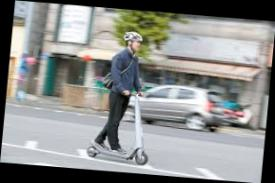helmet: (85, 27, 161, 167)
